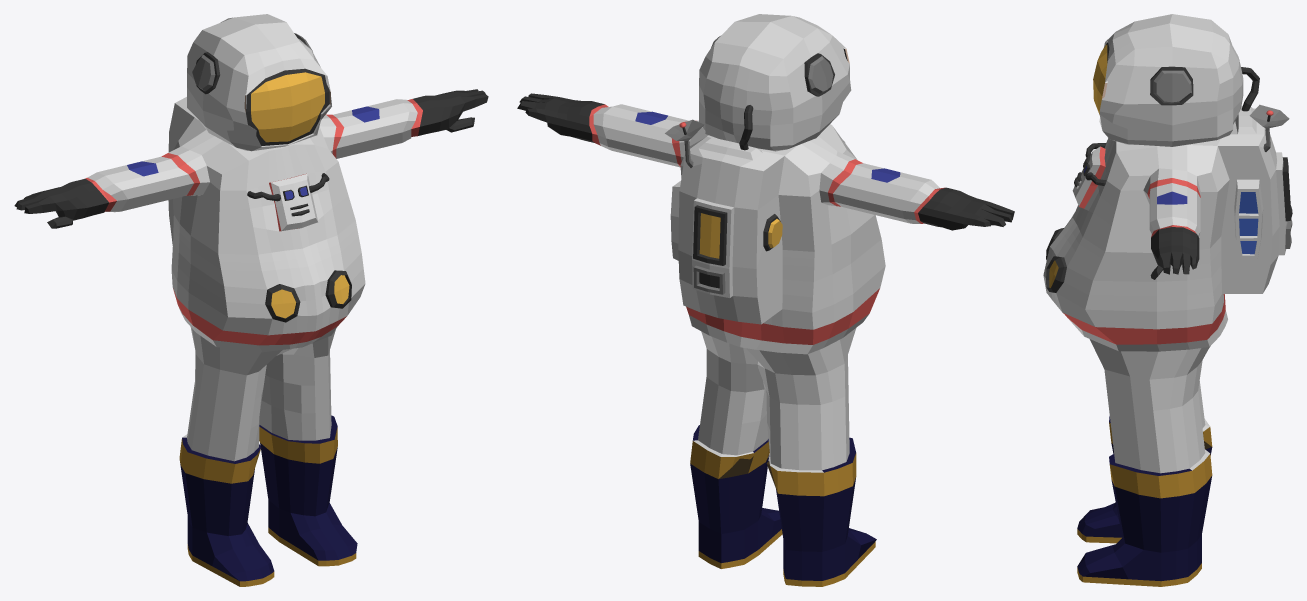
File: Karl Astronauta.fbx
The picture shows the model from 3 angles, left to right: view 1: azimuth 30°, elevation 25°; view 2: azimuth 150°, elevation 25°; view 3: azimuth 270°, elevation 25°; orthographic projection. The views are drawn at different scales.
Visible parts, largest first — view 1: astronaut_character; view 2: astronaut_character; view 3: astronaut_character.
Boxes of the visible parts, x1=… form: astronaut_character: x1=14, y1=14, x2=488, y2=586; astronaut_character: x1=517, y1=14, x2=1014, y2=586; astronaut_character: x1=1043, y1=14, x2=1292, y2=586.
Bounding box in the file's own units: 429 × 452 × 193.
